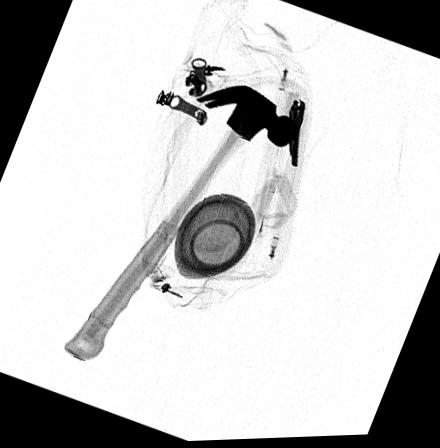Hammer: (62, 87, 298, 361)
